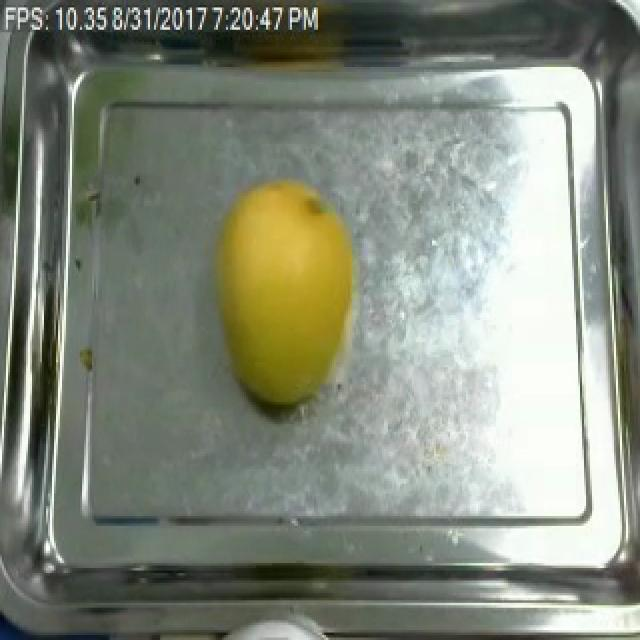fruit: (198, 164, 366, 424)
